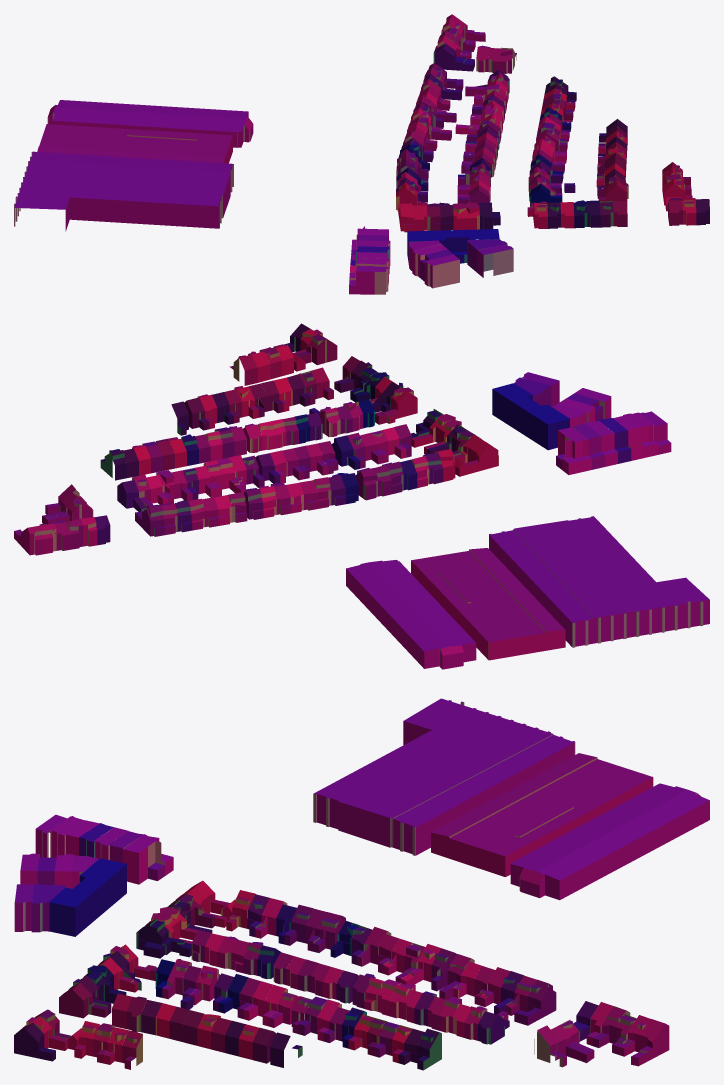
The model's file is buildings_11_7.glb.
3 renders of one model, top to bottom at view 1: azimuth 30°, elevation 25°; view 2: azimuth 150°, elevation 25°; view 3: azimuth 270°, elevation 25°, orthographic. The views are drawn at different scales.
Visible parts, largest first — view 1: buildings_11_7; view 2: buildings_11_7; view 3: buildings_11_7.
Part boxes in pixels (bbox=[...]): buildings_11_7: bbox=[14, 14, 709, 294]; buildings_11_7: bbox=[14, 323, 709, 669]; buildings_11_7: bbox=[14, 698, 709, 1070].
Size of the model in its own units: 242 by 10.6 by 207.
